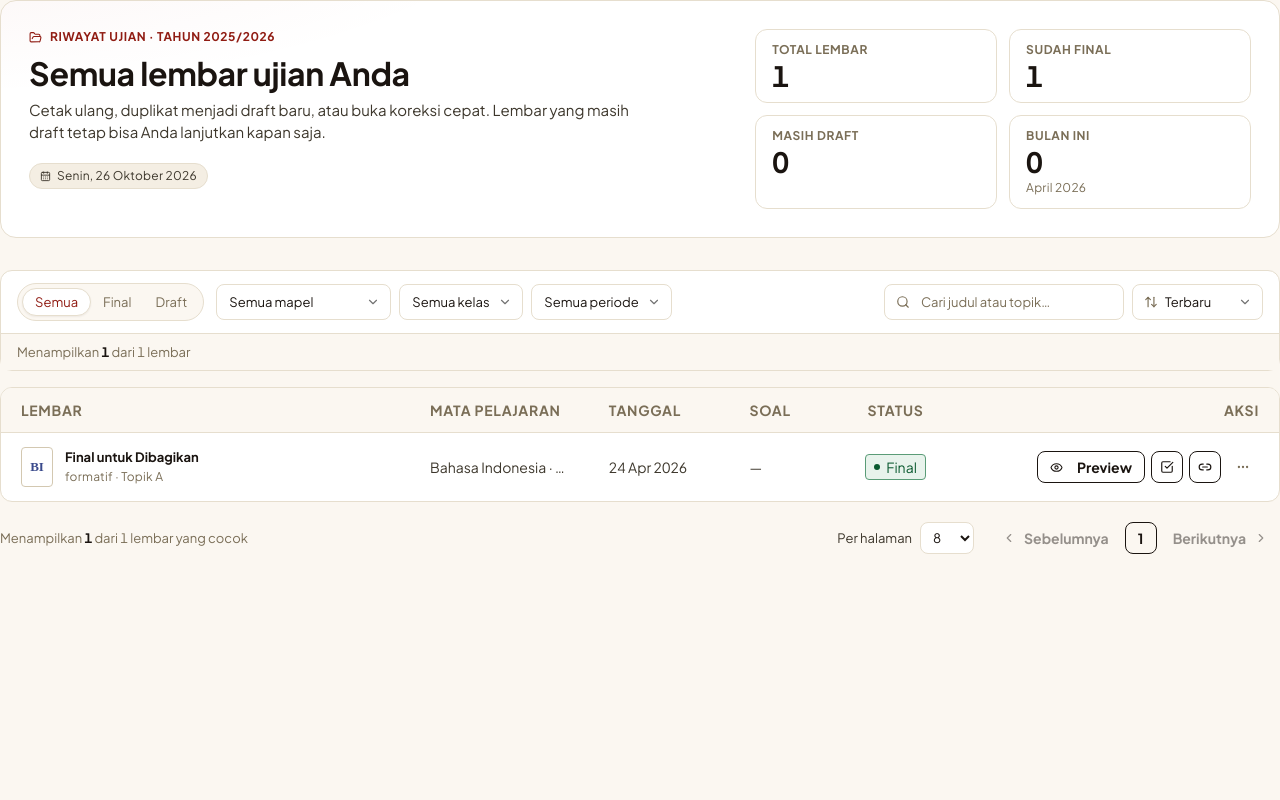
Scenario: HistoryPage › opens Bagikan lembar with a WhatsApp link and Salin link
Click the button named "Bagikan".
click(1205, 467)  # box [1189,451,1221,483]
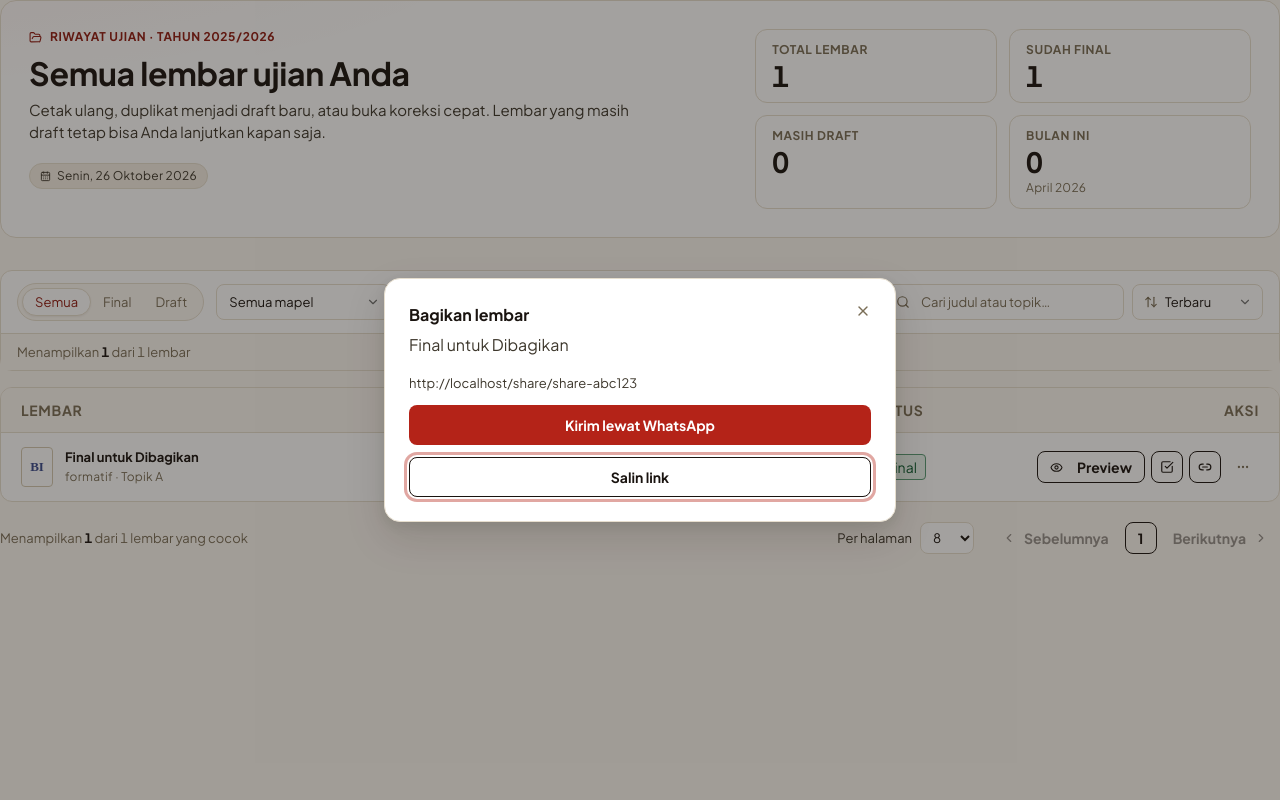
Expected: the heading "Bagikan lembar" is shown, [409,304,529,325]
Click the button "Salin link".
click(640, 477)  # box [409,457,871,497]
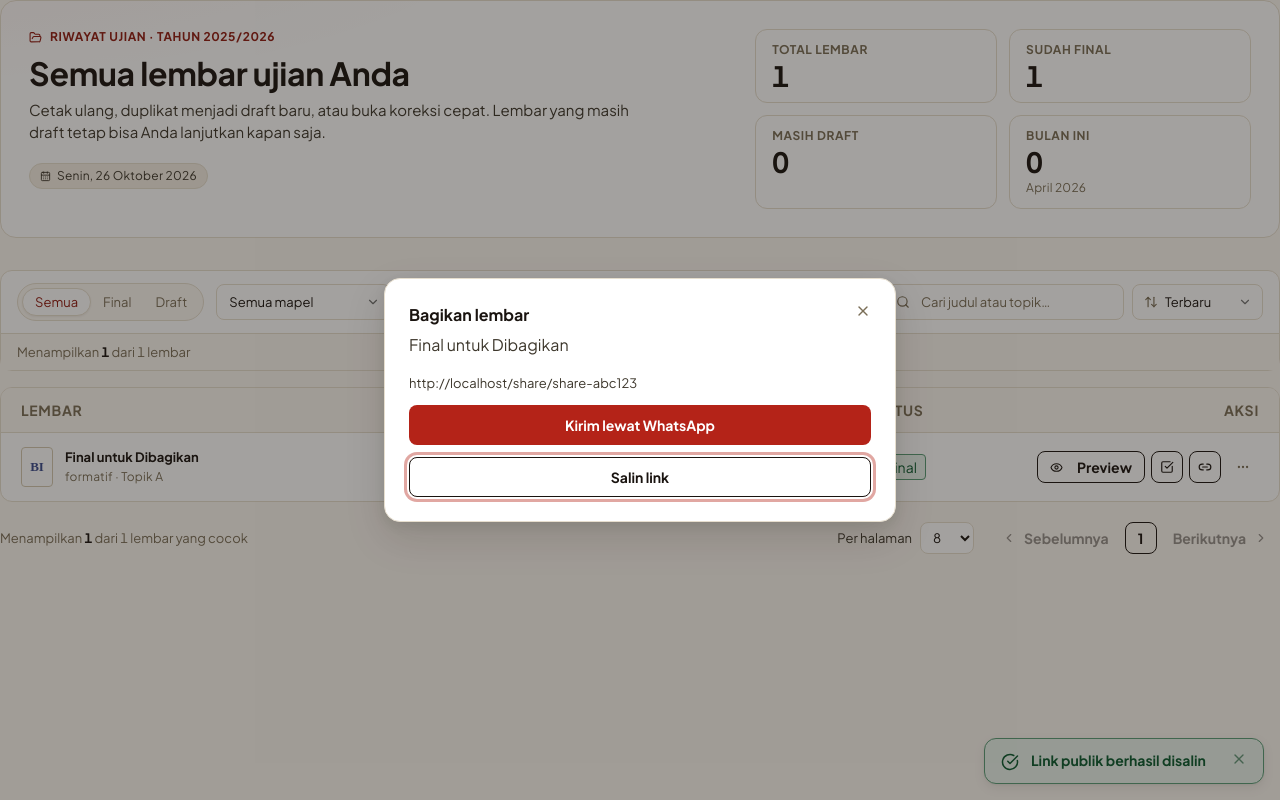
Expected: the button "Final untuk Dibagikan" is shown, [65,449,199,467]
Expected: the text "Link publik berhasil disalin" is shown, [1031,751,1219,770]
